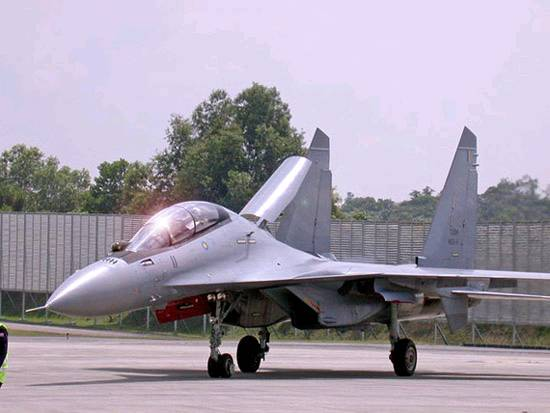airplane: (20, 126, 542, 377)
